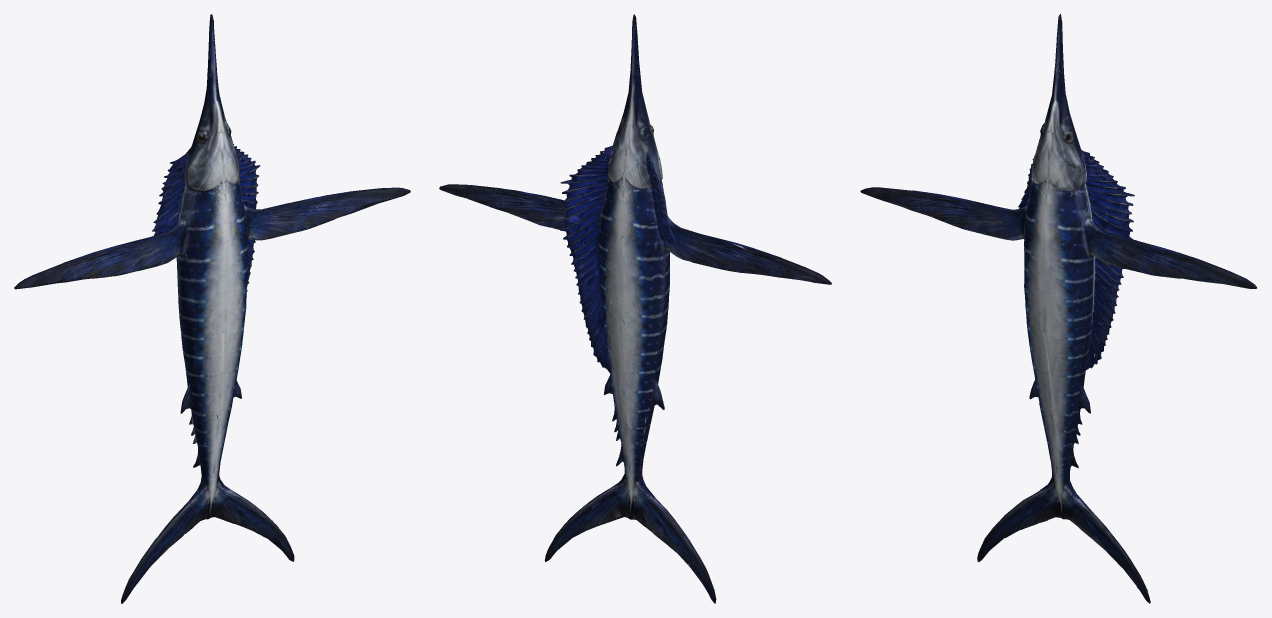
File: black-marlin-phone.glb
The picture shows the model from 3 angles, left to right: view 1: azimuth 30°, elevation 25°; view 2: azimuth 150°, elevation 25°; view 3: azimuth 330°, elevation 25°; orthographic projection.
Visible parts, largest first — view 1: Mesh_0; view 2: Mesh_0; view 3: Mesh_0.
Boxes of the visible parts, x1,y1,x2,y2 form: Mesh_0: [14, 14, 410, 603]; Mesh_0: [439, 14, 831, 603]; Mesh_0: [860, 14, 1256, 603].
Size of the model in its own units: 1.38 by 1.9 by 0.1821.
Materials: 1 (1 with a texture image).
